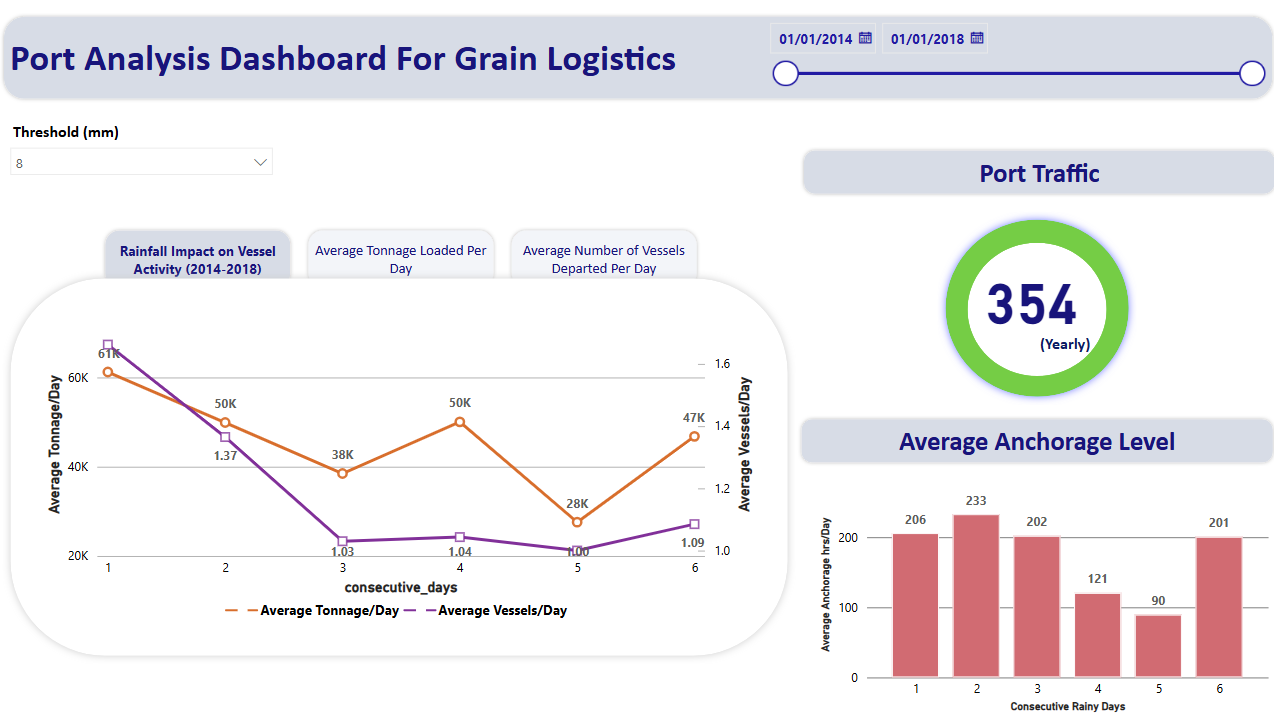

The page's visual inventory and layout, read from the dashboard file:
{"tool":"powerbi","page":{"name":"Overview","canvas":[1280,720],"ordinal":0},"visuals":[{"type":"shape","box":[937.9,213.1,199.3,193.2],"z":0,"group":"g3"},{"type":"card","fields":{"Values":["Avg(Vessel_count.num_vessels)"]},"box":[940.7,216.8,183.8,164.2],"z":0,"group":"g5"},{"type":"bookmarkNavigator","box":[101.8,227.2,599.5,65.8],"z":0},{"type":"group","id":"g1","title":"Group 3","box":[937.9,213.1,199.8,193.6],"z":1000,"group":"g4"},{"type":"shape","box":[967.3,244.4,139.1,133.3],"z":1000,"group":"g3"},{"type":"shape","box":[2.5,271.8,793.2,393.5],"z":1000},{"type":"textbox","box":[1036.2,330.3,77.6,37.4],"z":1000,"group":"g5"},{"type":"actionButton","box":[0,0,100,40],"z":2000},{"type":"slicer","fields":{"Values":["Data.Threshold (mm)"]},"box":[0,117.9,283,65.8],"z":3000},{"type":"lineChart","fields":{"Category":["Data.consecutive_days"],"Y":["Avg(Data.avg_tonnage_per_day)"],"Y2":["Avg(Data.avg_vessels_per_day)"]},"box":[41,320.3,716.2,310.3],"z":4000},{"type":"shape","box":[0,0,1276.6,90.5],"z":5000},{"type":"clusteredColumnChart","title":"Average Anchorage Level","fields":{"Category":["Data.consecutive_days"],"Y":["Avg(Data.avg_anchor_hrs_per_day)"]},"box":[815.3,479.4,458.6,239.7],"z":5000,"group":"g2"},{"type":"group","id":"g2","title":"Group 5","box":[815.3,479.4,458.6,239.7],"z":6000},{"type":"group","id":"g3","title":"Group 1","box":[937.9,213.1,199.3,193.2],"z":7000,"group":"g1"},{"type":"shape","box":[797.3,415.8,479.4,51.4],"z":7000},{"type":"group","id":"g4","title":"Group 4","box":[937.9,213.1,199.8,193.6],"z":8000},{"type":"group","id":"g5","title":"Group 2","box":[940.7,216.8,183.8,164.2],"z":8000,"group":"g1"},{"type":"shape","box":[799.7,157.7,479.4,51.4],"z":9000},{"type":"slicer","fields":{"Values":["Data.Date"]},"box":[756.9,0,516,90.5],"z":10000}]}

Visuals, with their boxes in screenshot pixels (x1, y1, x2, y2), scaled from the page's 1280x720 canvas onto the 1274x715 screenshot:
shape: (x1=934, y1=212, x2=1132, y2=403)
card - Avg(Vessel_count.num_vessels): (x1=936, y1=215, x2=1119, y2=378)
bookmarkNavigator: (x1=101, y1=226, x2=698, y2=291)
"Group 3" group: (x1=934, y1=212, x2=1132, y2=404)
shape: (x1=963, y1=243, x2=1101, y2=375)
shape: (x1=2, y1=270, x2=792, y2=661)
textbox: (x1=1031, y1=328, x2=1109, y2=365)
actionButton: (x1=0, y1=0, x2=100, y2=40)
slicer - Data.Threshold (mm): (x1=0, y1=117, x2=282, y2=182)
lineChart - Data.consecutive_days x Avg(Data.avg_tonnage_per_day): (x1=41, y1=318, x2=754, y2=626)
shape: (x1=0, y1=0, x2=1271, y2=90)
"Average Anchorage Level" clusteredColumnChart: (x1=811, y1=476, x2=1268, y2=714)
"Group 5" group: (x1=811, y1=476, x2=1268, y2=714)
"Group 1" group: (x1=934, y1=212, x2=1132, y2=403)
shape: (x1=794, y1=413, x2=1271, y2=464)
"Group 4" group: (x1=934, y1=212, x2=1132, y2=404)
"Group 2" group: (x1=936, y1=215, x2=1119, y2=378)
shape: (x1=796, y1=157, x2=1273, y2=208)
slicer - Data.Date: (x1=753, y1=0, x2=1267, y2=90)
